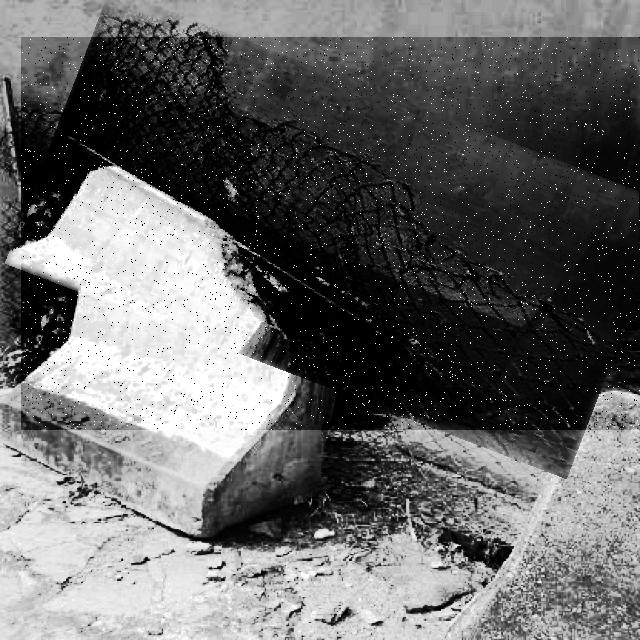anomaly-fence: (21, 37, 640, 430)
